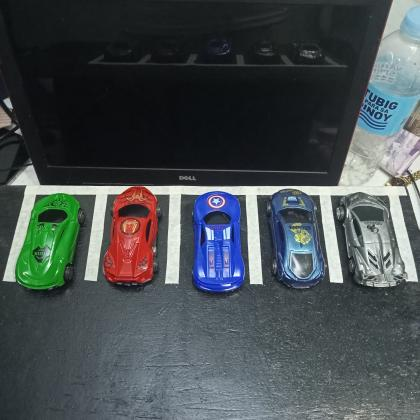Car: (337, 191, 407, 287), (15, 193, 80, 289), (266, 188, 325, 289), (102, 186, 159, 286), (191, 190, 245, 293)
